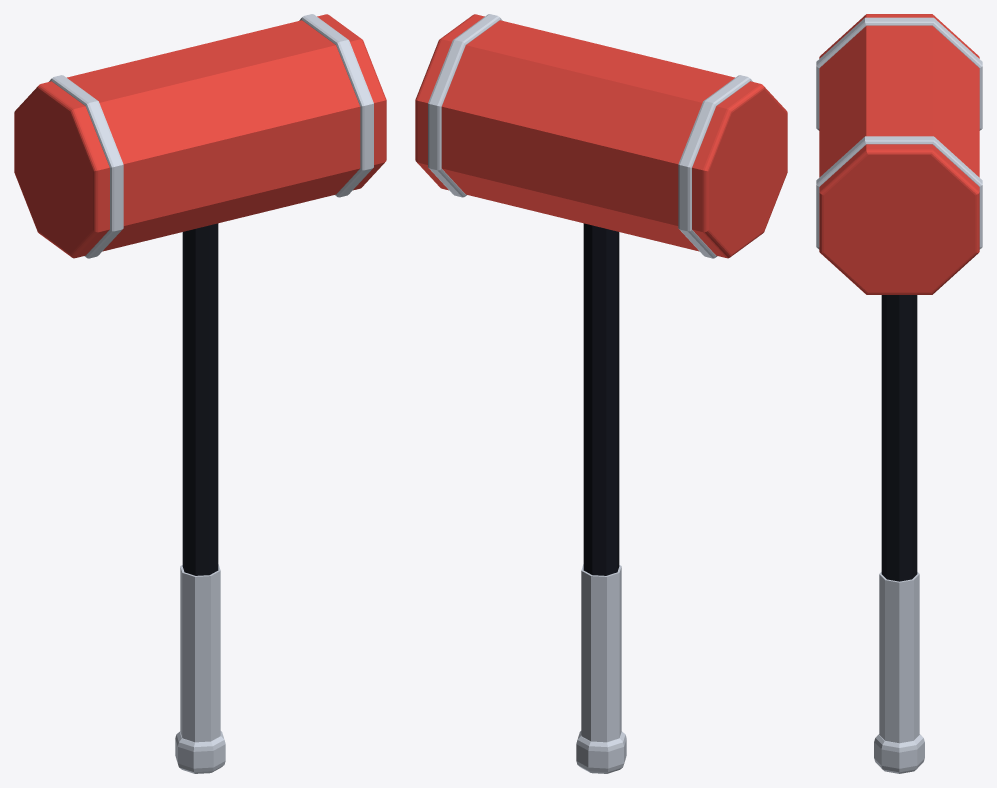
Rendered from hammer_aodaru.fbx.
3 views of the same model, side by side, from view 1: azimuth 30°, elevation 25°; view 2: azimuth 150°, elevation 25°; view 3: azimuth 270°, elevation 25° (orthographic). The views are drawn at different scales.
Parts seen in each view (by area): view 1: aodaru_hammer; view 2: aodaru_hammer; view 3: aodaru_hammer.
Part boxes in pixels (x1,y1,x2,y2): aodaru_hammer: (14, 14, 386, 773); aodaru_hammer: (415, 14, 787, 773); aodaru_hammer: (816, 14, 982, 773).
Size of the model in its own units: 1.1 by 2.54 by 0.558.
